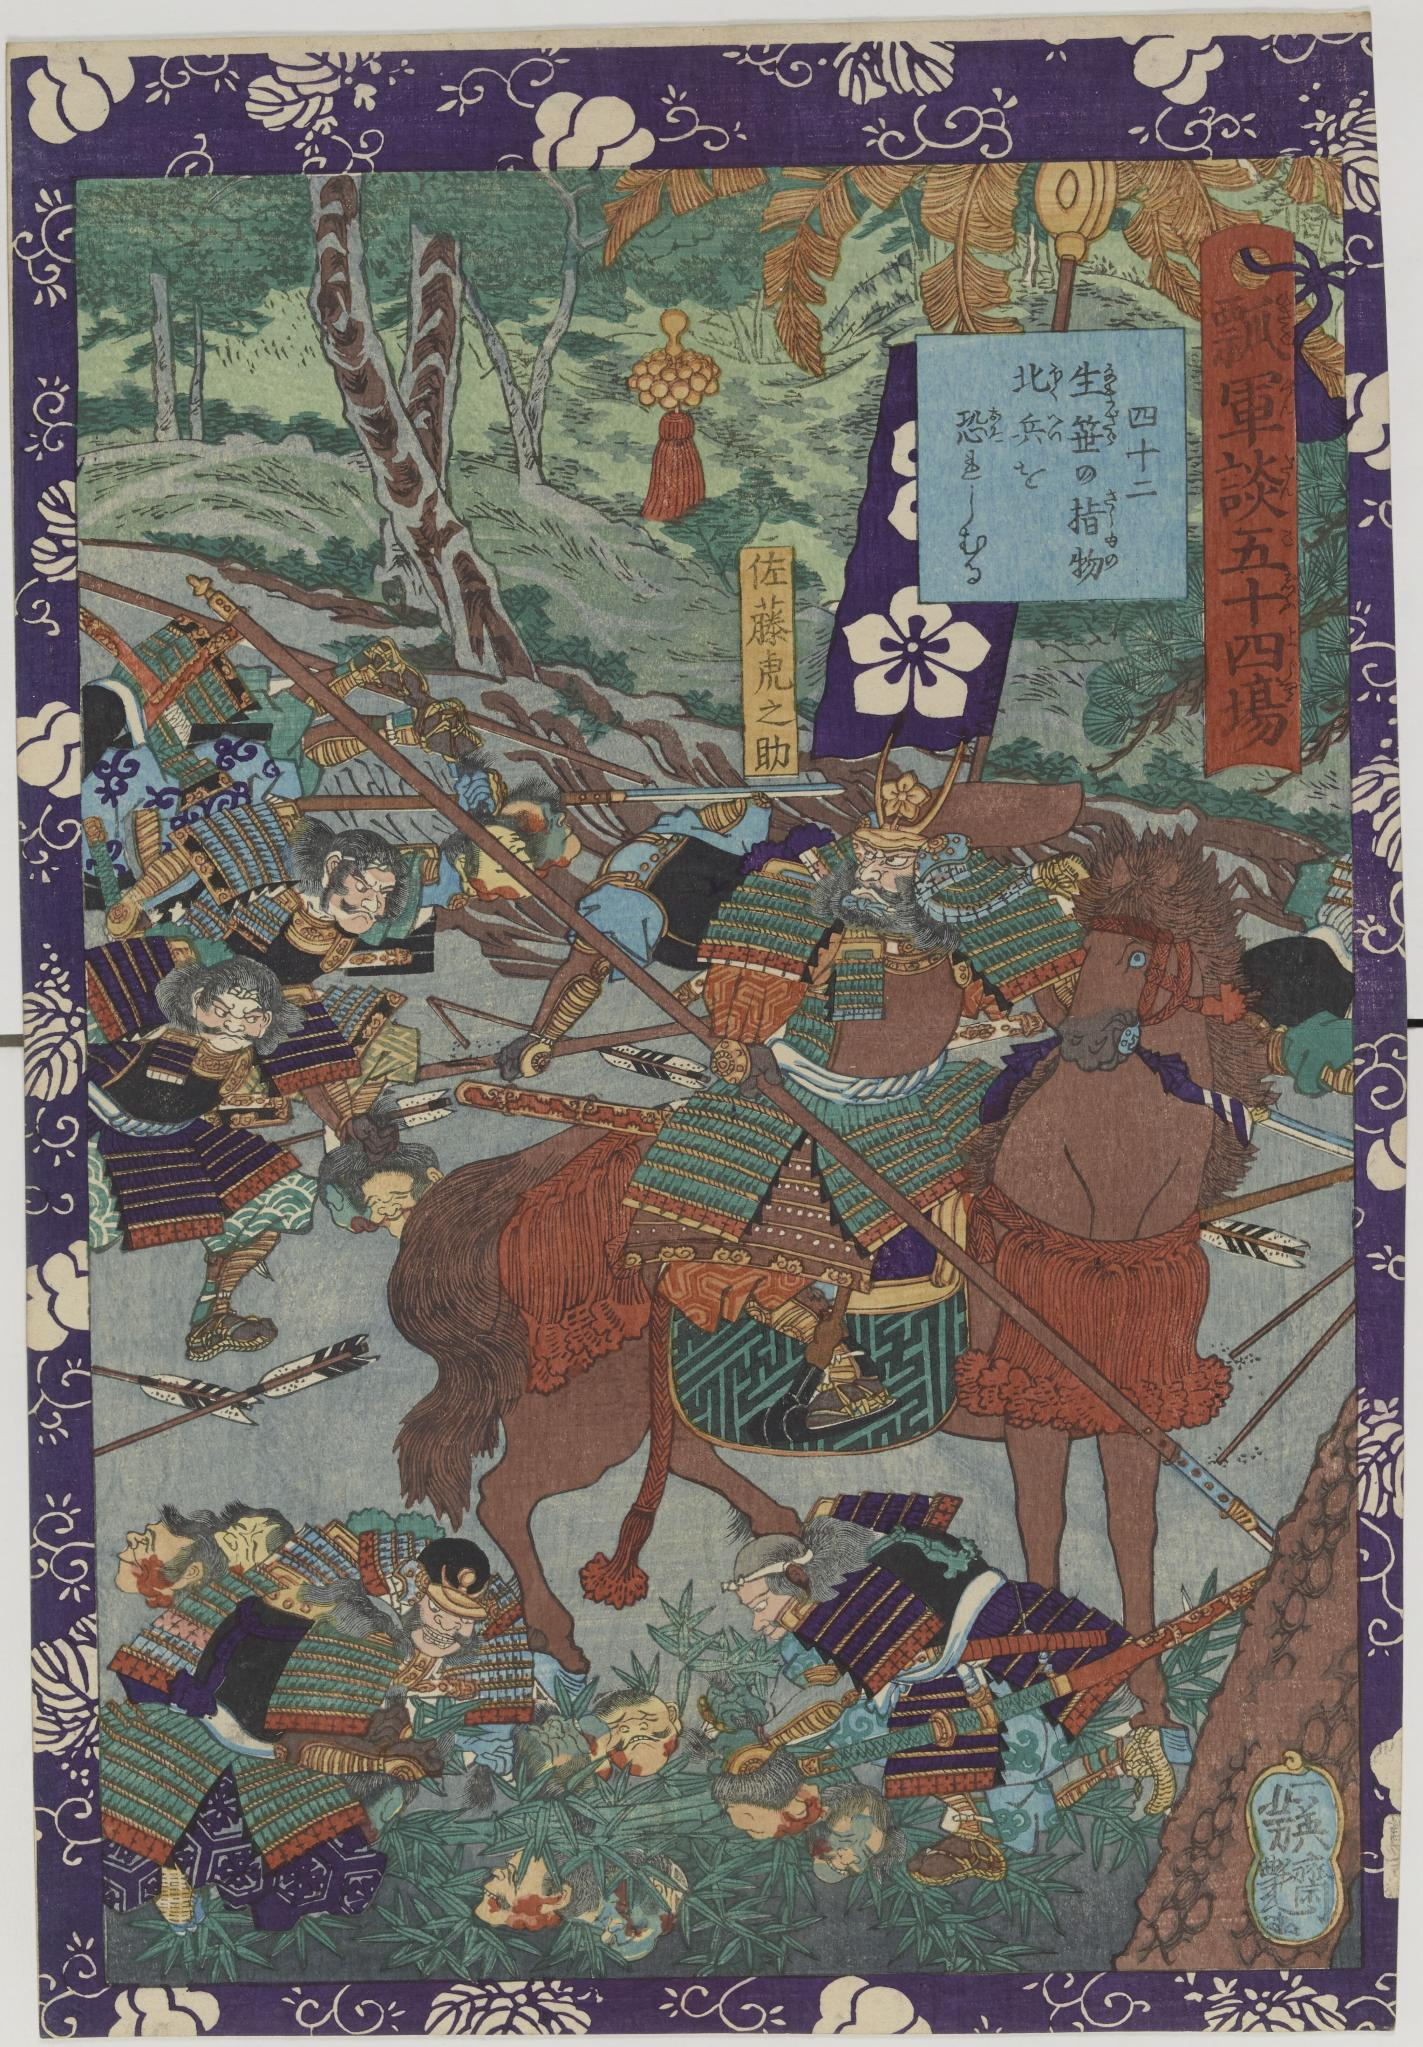MainZone-Character: (1213, 663, 1306, 758), (1201, 283, 1297, 373), (1207, 446, 1297, 523), (1208, 372, 1297, 446), (1218, 571, 1303, 628), (1215, 527, 1303, 574), (1213, 625, 1306, 667), (1068, 485, 1124, 551), (1072, 356, 1123, 417), (1008, 356, 1064, 401), (1011, 411, 1067, 454), (950, 401, 1006, 442), (1070, 414, 1120, 456), (1070, 551, 1123, 583)
MainZone-Ruby: (1275, 286, 1295, 350), (1103, 485, 1120, 549), (1281, 663, 1302, 709), (1280, 450, 1295, 507), (1104, 358, 1118, 417), (1281, 572, 1299, 619), (1048, 411, 1068, 446), (1278, 373, 1294, 418), (1047, 362, 1061, 400), (1103, 422, 1118, 450), (991, 408, 1002, 445), (1281, 529, 1295, 555), (1286, 627, 1300, 650), (1106, 554, 1118, 571)
